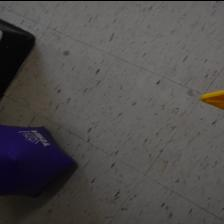cone: (200, 88, 224, 110)
cube: (0, 124, 76, 197)
